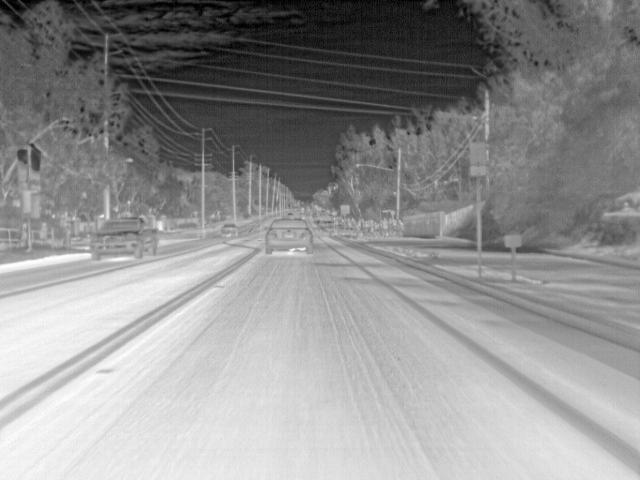car: (90, 216, 158, 262), (265, 218, 314, 256), (220, 223, 236, 236), (286, 210, 295, 218)
person: (41, 222, 48, 245), (381, 218, 388, 237), (397, 218, 404, 236), (390, 218, 397, 236), (367, 218, 373, 234)
